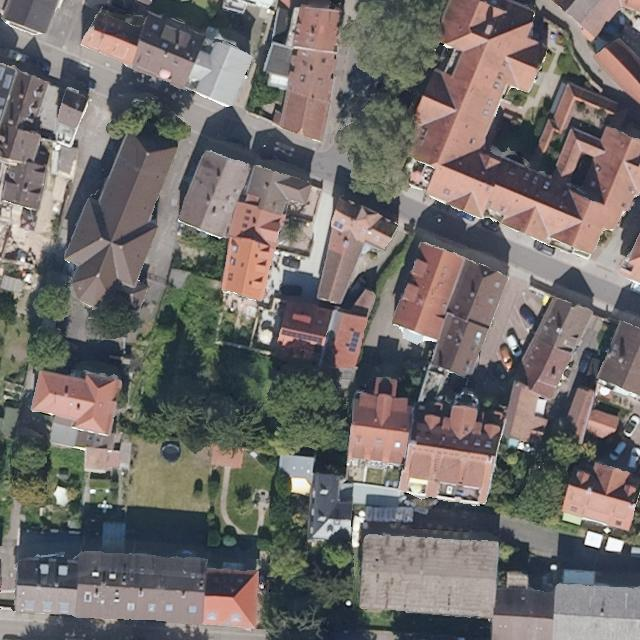PV: (279, 326, 326, 346), (345, 329, 362, 355)
